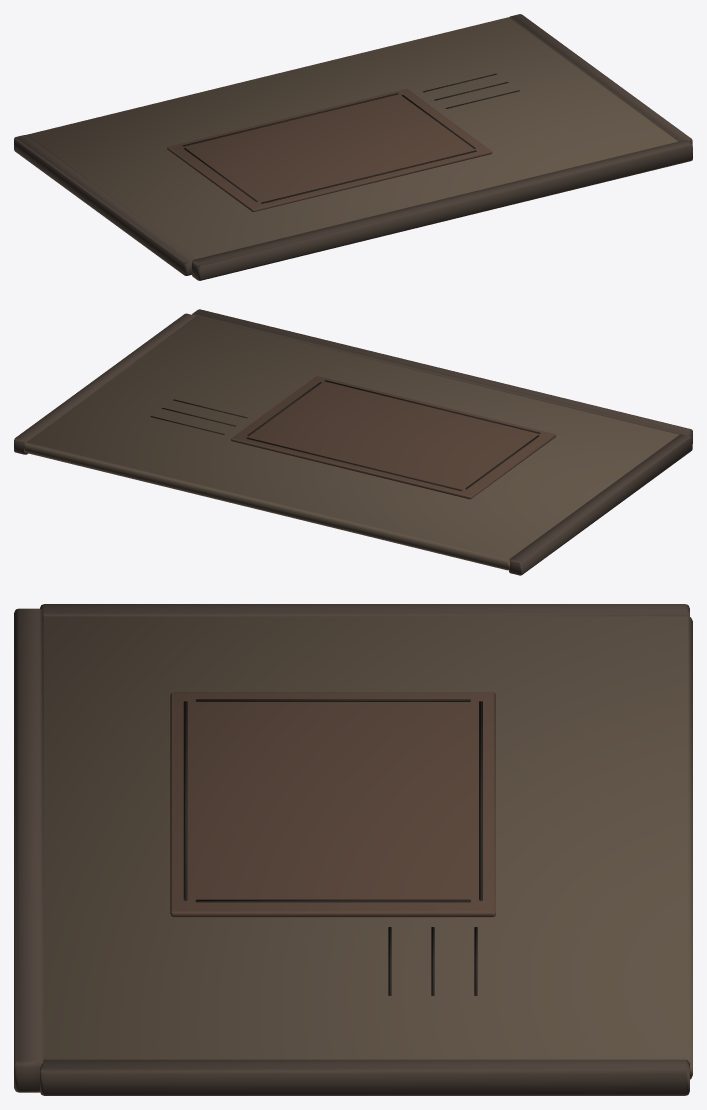
The model's file is desk.raw.glb.
3 views of the same model, one above another, from view 1: azimuth 30°, elevation 25°; view 2: azimuth 150°, elevation 25°; view 3: azimuth 270°, elevation 25° (orthographic). The views are drawn at different scales.
Parts seen in each view (by area): view 1: MITHAQ_Desk_Surface, MITHAQ_Leather_Writing_Pad, MITHAQ_Desk_Front_Edge, MITHAQ_Desk_Side_Edge_Left, MITHAQ_Desk_Side_Edge_Right, MITHAQ_Leather_Pad_Subtle_Groove; view 2: MITHAQ_Desk_Surface, MITHAQ_Leather_Writing_Pad, MITHAQ_Desk_Side_Edge_Left, MITHAQ_Desk_Front_Edge, MITHAQ_Desk_Side_Edge_Right, MITHAQ_Leather_Pad_Subtle_Groove; view 3: MITHAQ_Desk_Surface, MITHAQ_Leather_Writing_Pad, MITHAQ_Desk_Side_Edge_Right, MITHAQ_Desk_Front_Edge, MITHAQ_Desk_Side_Edge_Left, MITHAQ_Leather_Pad_Subtle_Groove, MITHAQ_Desk_Subtle_Placement_Zones.
Part boxes in pixels (x1,y1,x2,y2): MITHAQ_Desk_Surface: [26, 17, 677, 258]; MITHAQ_Leather_Writing_Pad: [167, 89, 492, 211]; MITHAQ_Desk_Front_Edge: [191, 140, 692, 280]; MITHAQ_Desk_Side_Edge_Left: [14, 135, 195, 275]; MITHAQ_Desk_Side_Edge_Right: [509, 14, 692, 144]; MITHAQ_Leather_Pad_Subtle_Groove: [182, 93, 476, 203]; MITHAQ_Desk_Surface: [24, 317, 678, 570]; MITHAQ_Leather_Writing_Pad: [231, 376, 556, 499]; MITHAQ_Desk_Side_Edge_Left: [509, 434, 692, 575]; MITHAQ_Desk_Front_Edge: [192, 309, 692, 443]; MITHAQ_Desk_Side_Edge_Right: [14, 313, 196, 454]; MITHAQ_Leather_Pad_Subtle_Groove: [246, 380, 540, 491]; MITHAQ_Desk_Surface: [43, 616, 692, 1079]; MITHAQ_Leather_Writing_Pad: [170, 692, 495, 917]; MITHAQ_Desk_Side_Edge_Right: [40, 1059, 689, 1095]; MITHAQ_Desk_Front_Edge: [14, 608, 43, 1092]; MITHAQ_Desk_Side_Edge_Left: [40, 604, 689, 616]; MITHAQ_Leather_Pad_Subtle_Groove: [183, 699, 482, 902]; MITHAQ_Desk_Subtle_Placement_Zones: [388, 927, 477, 995].
Bounding box in the file's own units: 8.77 × 0.325 × 5.38.
